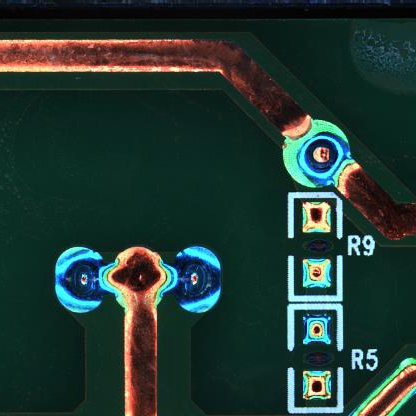spot: (282, 119, 349, 188), (176, 246, 222, 315), (55, 246, 102, 311)
